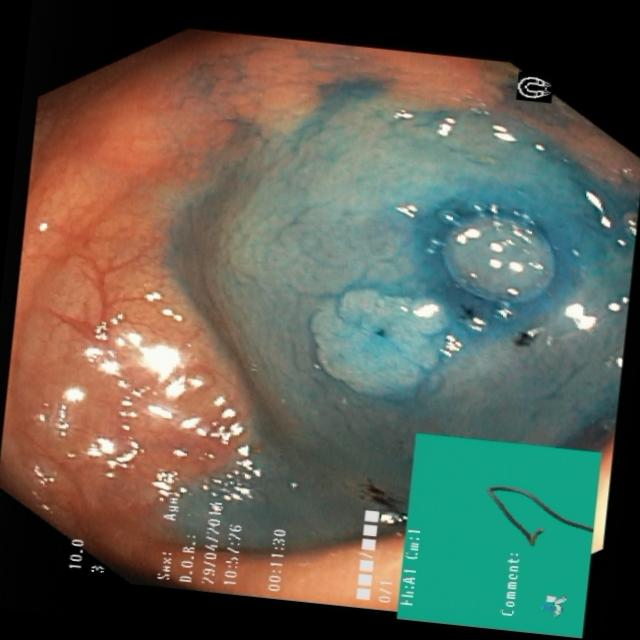dyed-lifted-polyps: (289, 273, 455, 405), (424, 197, 562, 310)
